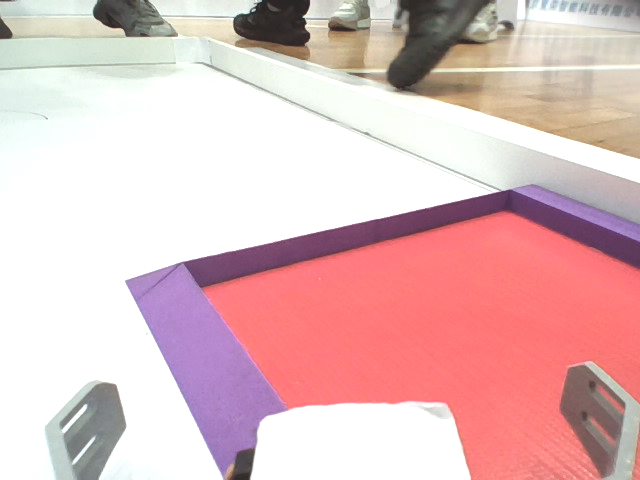kuang: (123, 183, 640, 480)
